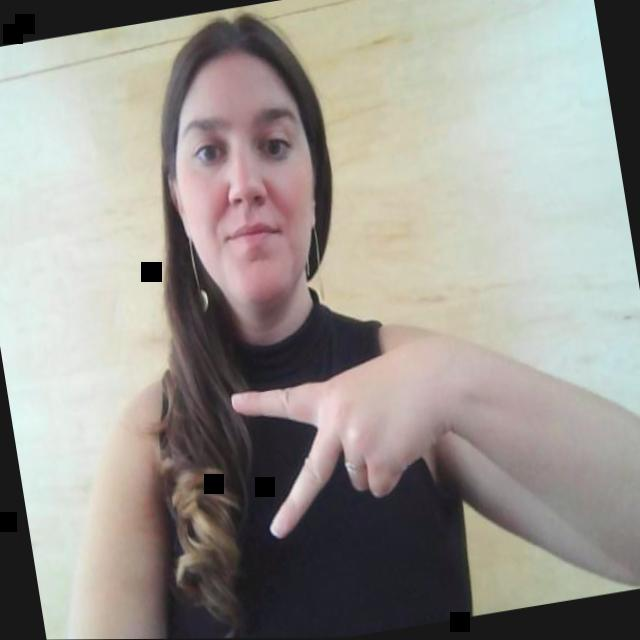Scissors: (211, 331, 495, 561)
